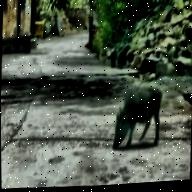boar: (114, 75, 174, 148)
